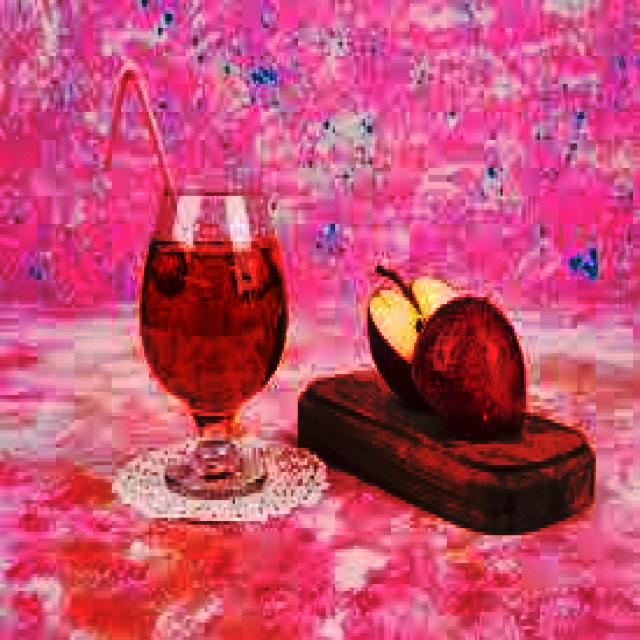drink: (135, 182, 291, 500)
